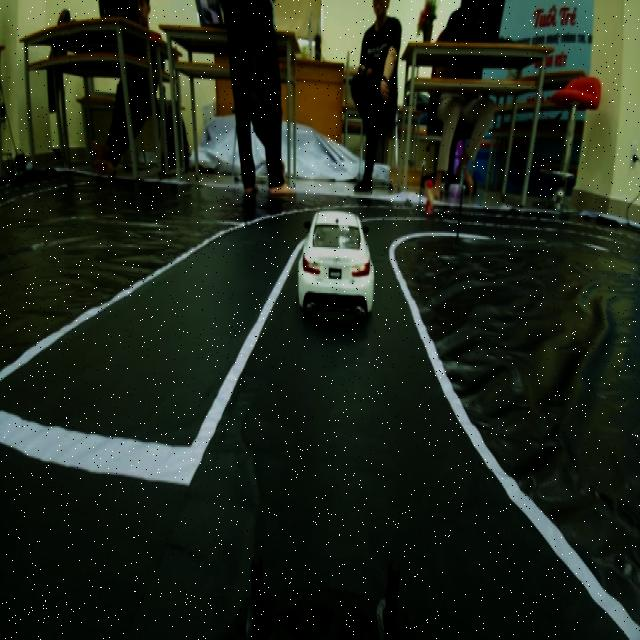car: (297, 200, 379, 334)
